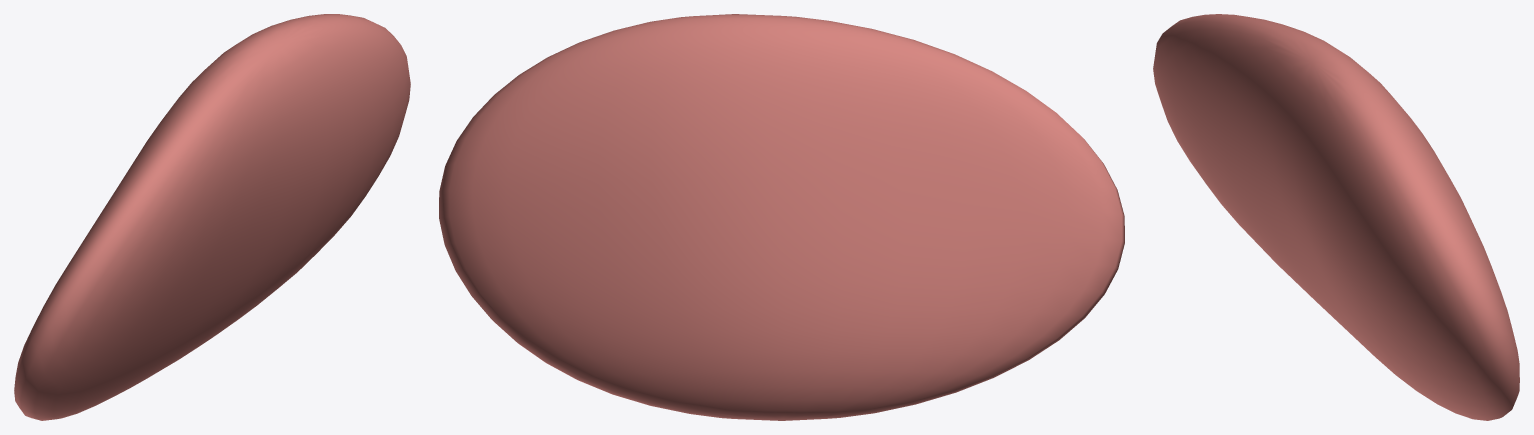
The picture shows the model from 3 angles, left to right: view 1: azimuth 30°, elevation 25°; view 2: azimuth 150°, elevation 25°; view 3: azimuth 270°, elevation 25°; orthographic projection. The views are drawn at different scales.
Visible parts, largest first — view 1: ZA_f308074123f5cd58; view 2: ZA_f308074123f5cd58; view 3: ZA_f308074123f5cd58.
Boxes of the visible parts, x1,y1,x2,y2 form: ZA_f308074123f5cd58: (14,14,410,420); ZA_f308074123f5cd58: (439,14,1124,420); ZA_f308074123f5cd58: (1153,14,1519,420).
Size of the model in its own units: 0.0127 by 0.008 by 0.00749.
